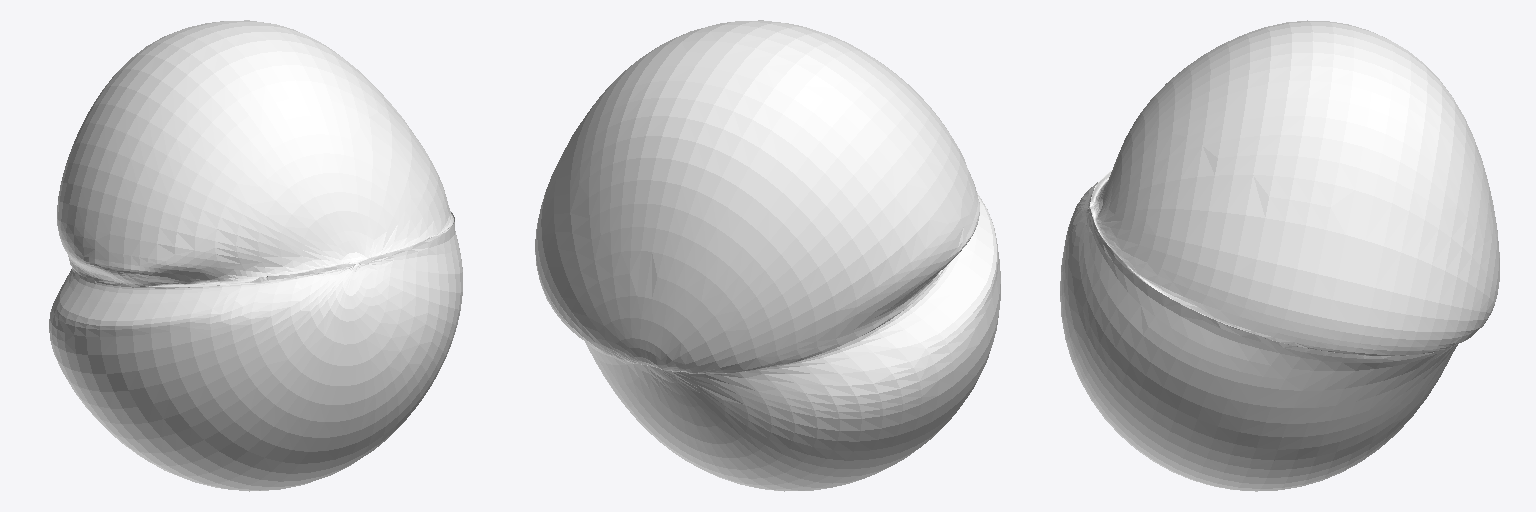
The robot description file, URDF, robot "Erliao1_urdf":
<?xml version="1.0" encoding="utf-8"?>
<!-- This URDF was automatically created by SolidWorks to URDF Exporter! Originally created by [author] ([email redacted]) 
     Commit Version: 1.6.0-4-g7f85cfe  Build Version: 1.6.7995.38578
     For more information, please see http://wiki.ros.org/sw_urdf_exporter -->
<robot
  name="Erliao1_urdf">
  <link
    name="base_link">
    <inertial>
      <origin
        xyz="0.0014586 0.0068853 0.019492"
        rpy="0 0 0" />
      <mass
        value="0.30433" />
      <inertia
        ixx="0.00022362"
        ixy="-1.5645E-06"
        ixz="-4.8595E-06"
        iyy="0.00022487"
        iyz="-1.8614E-05"
        izz="0.00019999" />
    </inertial>
    <visual>
      <origin
        xyz="0 0 0"
        rpy="0 0 0" />
      <geometry>
        <mesh
          filename="package://Erliao1_urdf/meshes/base_link.STL" />
      </geometry>
      <material
        name="">
        <color
          rgba="1 1 1 1" />
      </material>
    </visual>
    <collision>
      <origin
        xyz="0 0 0"
        rpy="0 0 0" />
      <geometry>
        <mesh
          filename="package://Erliao1_urdf/meshes/base_link.STL" />
      </geometry>
    </collision>
  </link>
</robot>

--- Facts derived from the render (not from the file) ---
Views: 3 orthographic renders of the robot side by side, from view 1: azimuth 30°, elevation 25°; view 2: azimuth 150°, elevation 25°; view 3: azimuth 270°, elevation 25°.
Robot: Erliao1_urdf — 1 links, 0 joints (none); root link base_link; default pose: all joints at 0.
Links seen in each view (by area): view 1: base_link; view 2: base_link; view 3: base_link.
Link boxes in pixels (<box>): base_link: <box>49,20,462,491</box>; base_link: <box>535,20,1000,491</box>; base_link: <box>1060,20,1499,491</box>.
Bounding box of the posed robot: 0.0832 × 0.0827 × 0.0909 m (x, y, z).
Meshes: 1 distinct files referenced, 1 mesh visuals loaded (1 binary STL).
